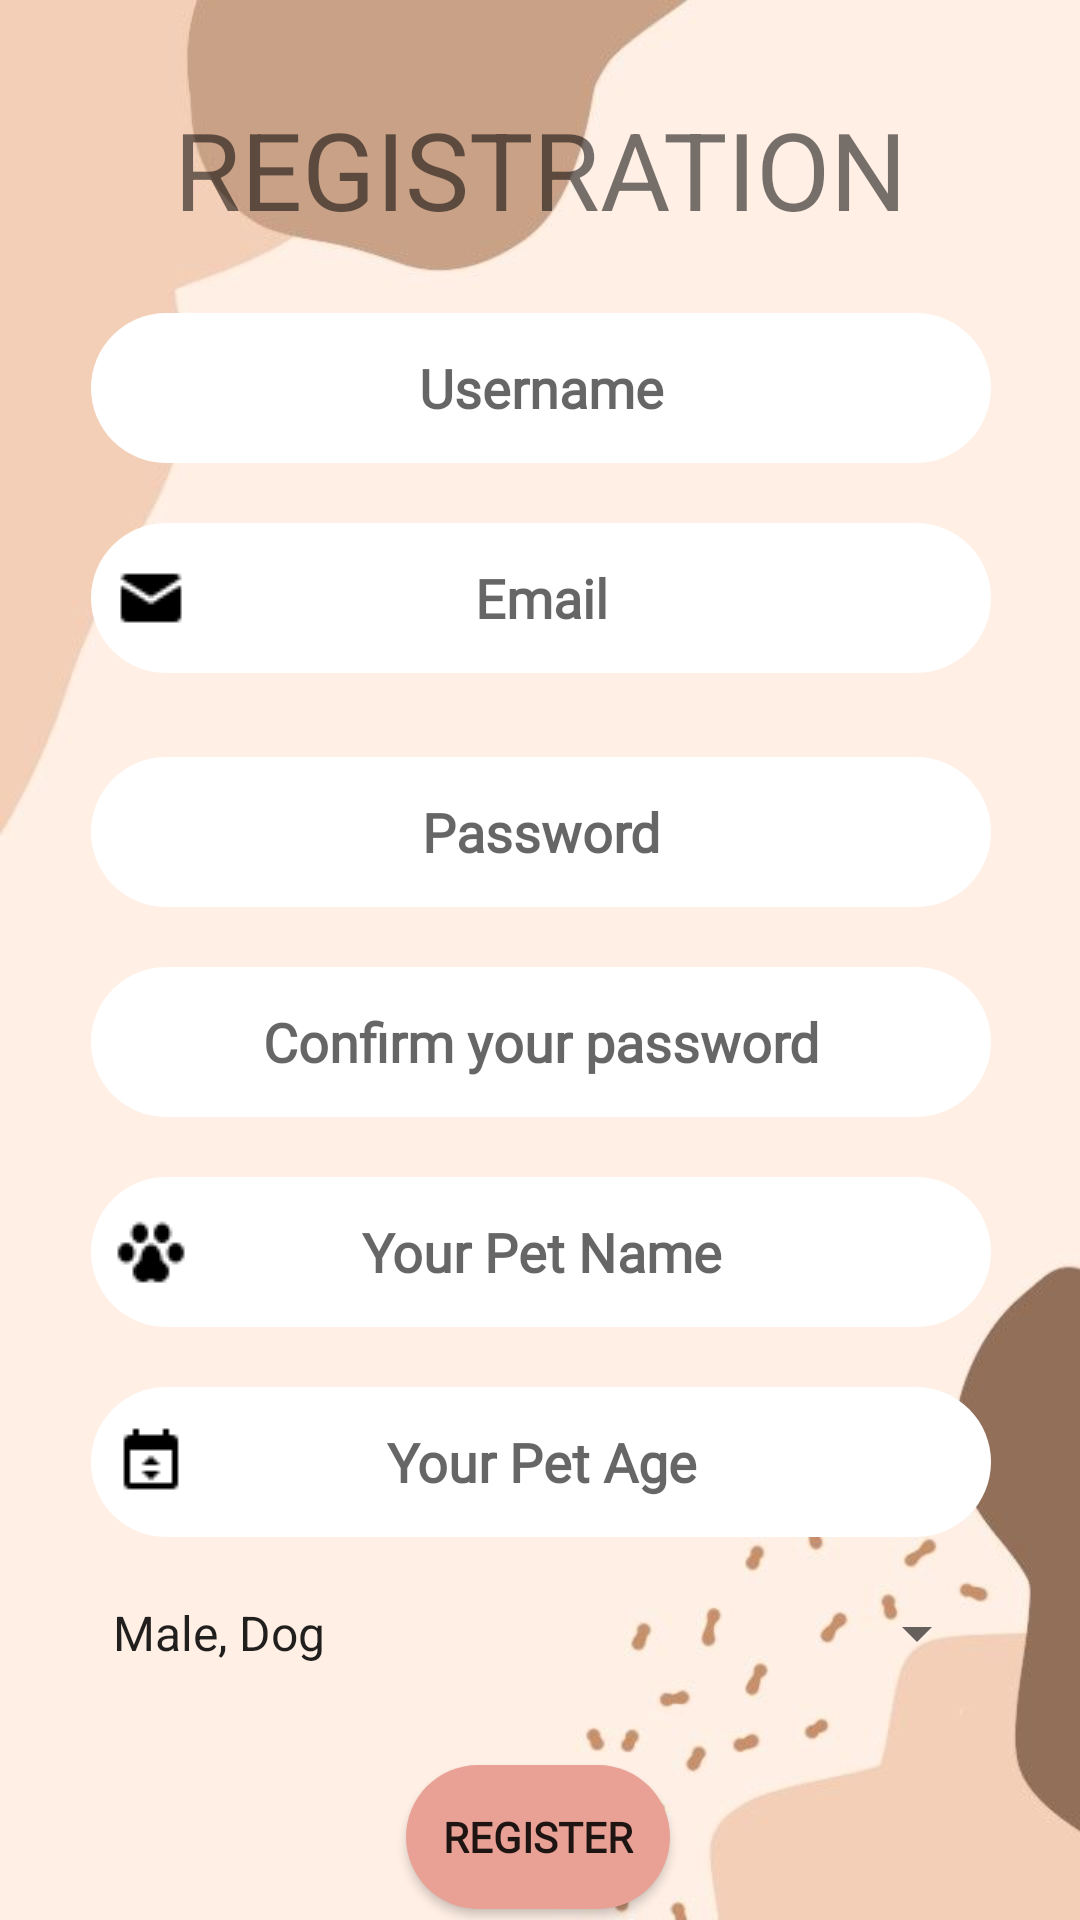

Screen size 1080px×1920px. Icon name, then its center in pixels as (x,y):
dog paw: (151,1252)
